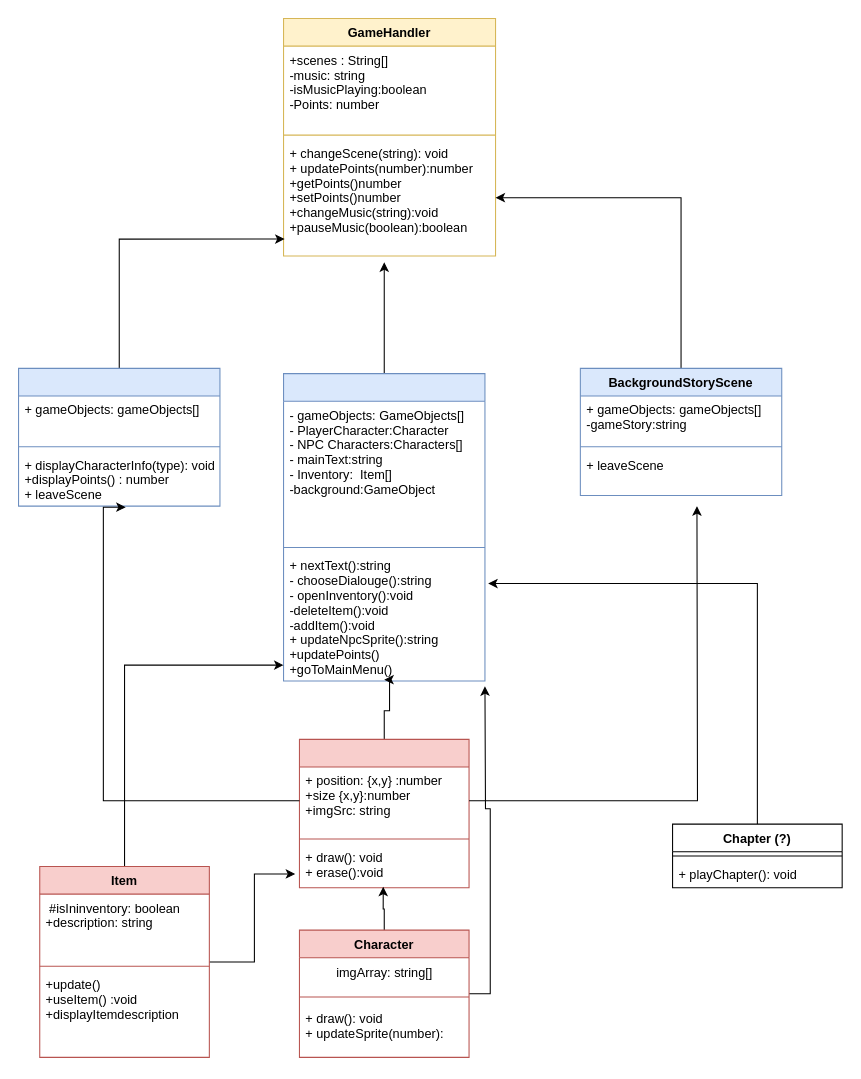
The diagram is 861 pixels wide and 1079 high, and some of its shapes have lost their labels. Each missing label, with the box of its shape:
CharacterLibraryScene: (17, 367, 220, 506)
Gameobject: (298, 738, 469, 888)
GameScene: (282, 373, 485, 681)
